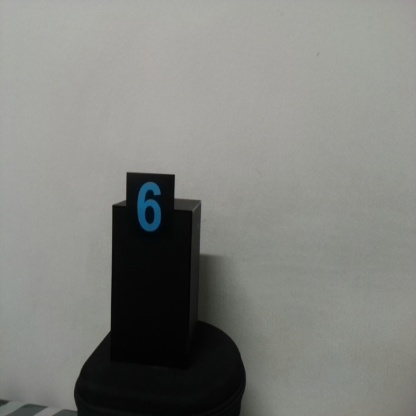id_6: (125, 173, 175, 255)
